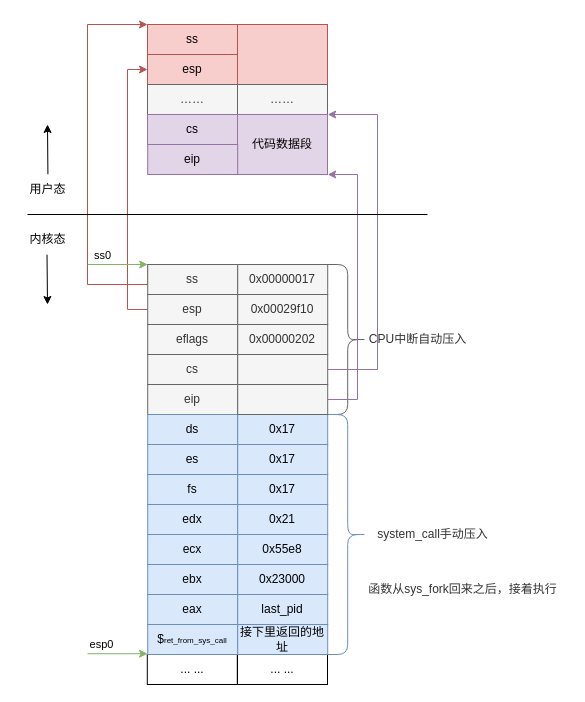
Some shapes in this 585 by 702 pixel diagram are drawn without their labels. The shapes that lost their labels are listed below. From the top down, each one's centre as x and y in pixels, then its label:
At [282,54]: "堆栈段".
At [282,369]: "0x0000000f".
At [282,399]: "0x000068e1".
